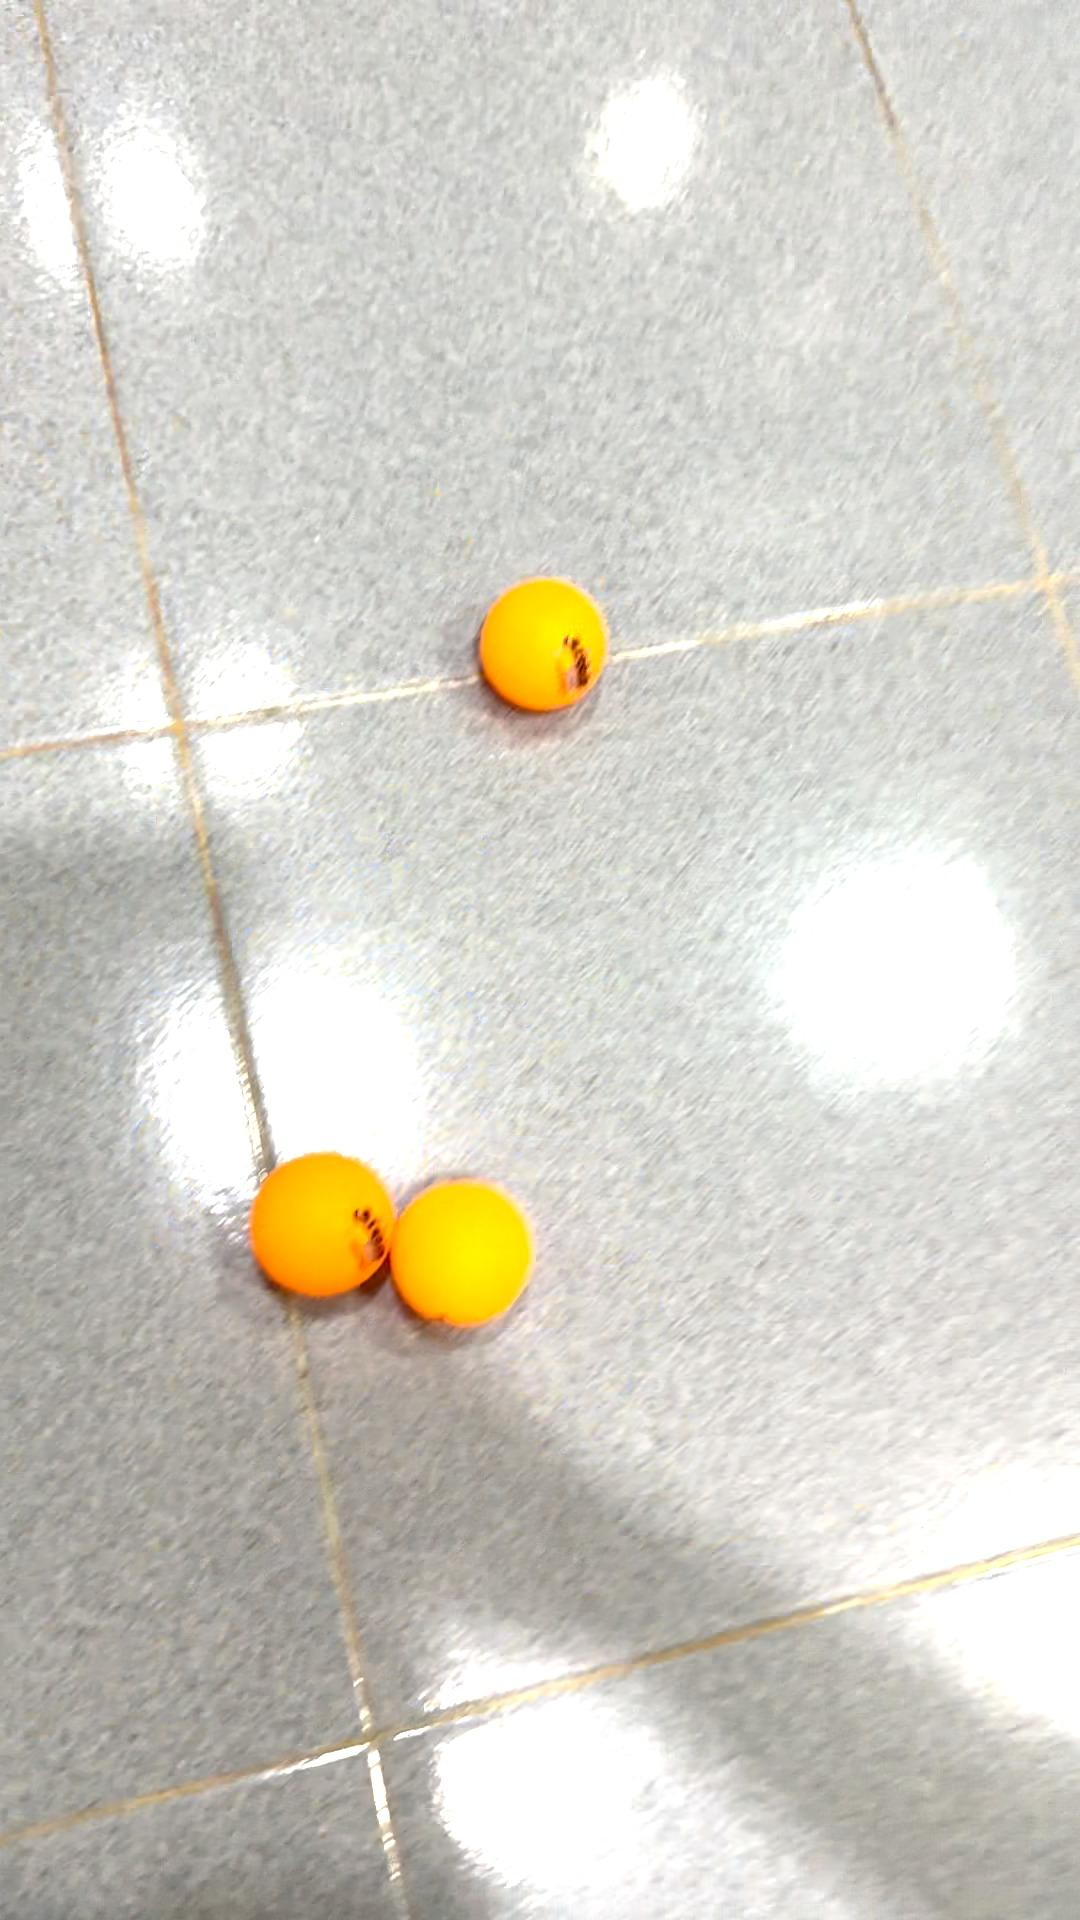oball: (375, 1172, 547, 1336), (247, 1139, 396, 1321), (475, 564, 621, 720)
